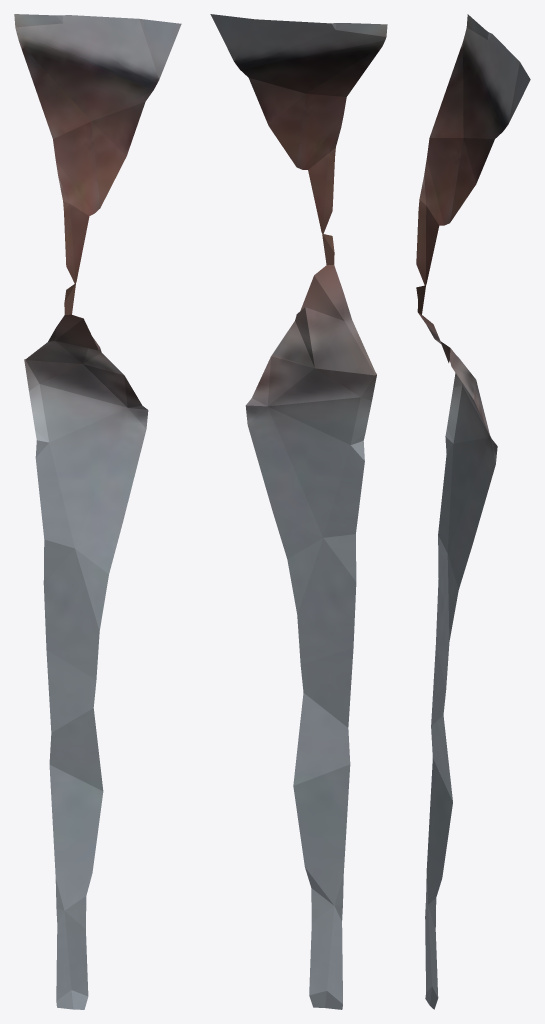
3 renders of one model, left to right at view 1: azimuth 30°, elevation 25°; view 2: azimuth 210°, elevation 25°; view 3: azimuth 330°, elevation 25°, orthographic. The views are drawn at different scales.
Bounding box in the file's own units: 0.1051 × 0.8373 × 0.0819.
1 material, 1 textured.
